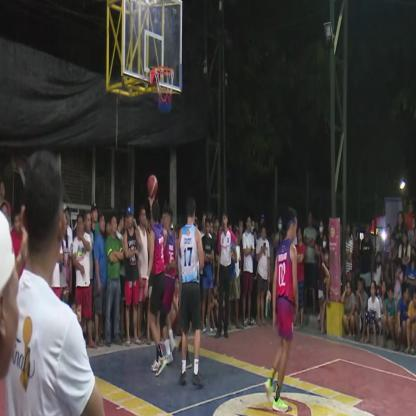basketball: (146, 174, 159, 200)
rim: (151, 58, 176, 118)
